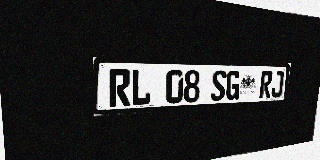0: (165, 69, 184, 104)
8: (183, 70, 201, 103)
G: (225, 70, 241, 100)
J: (271, 71, 284, 98)
L: (131, 69, 151, 106)
R: (109, 69, 131, 107), (259, 71, 273, 99)
S: (210, 70, 227, 101)
